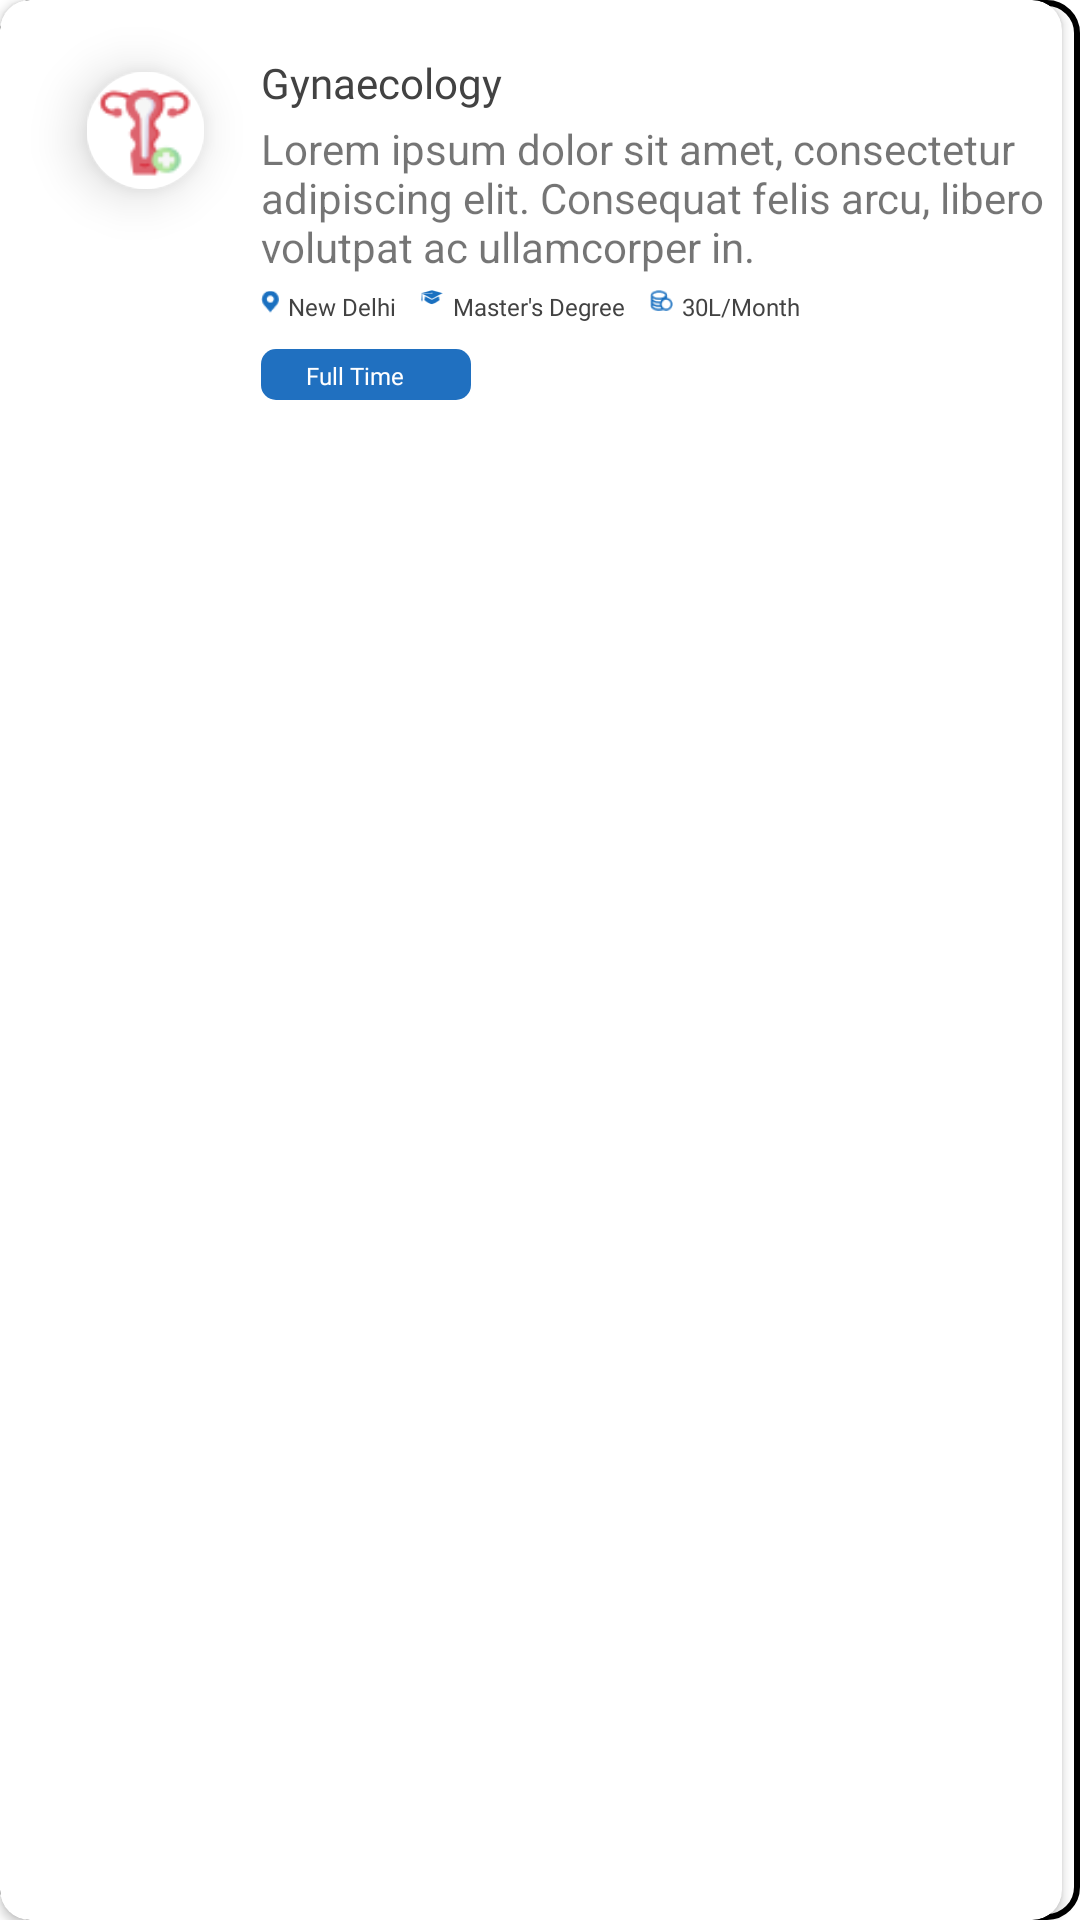

Icon click points for this 1080x1920 phone screenshot, format [x,y]:
ganaecologist: [145,130]
